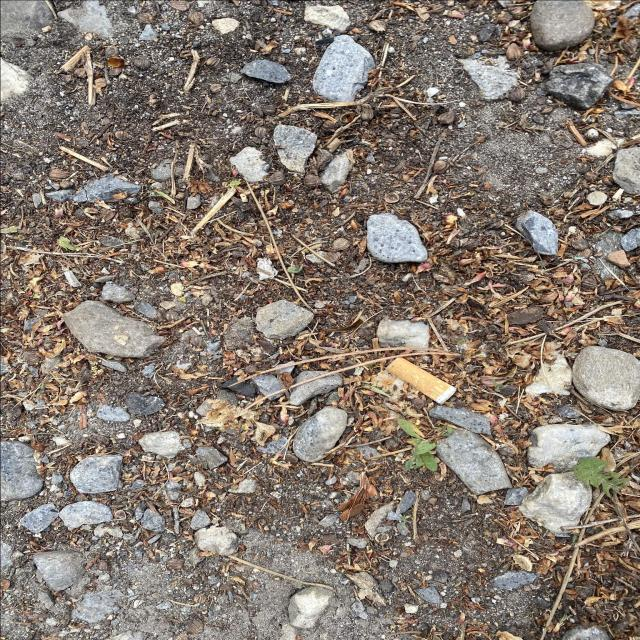other waste: (384, 356, 458, 404)
